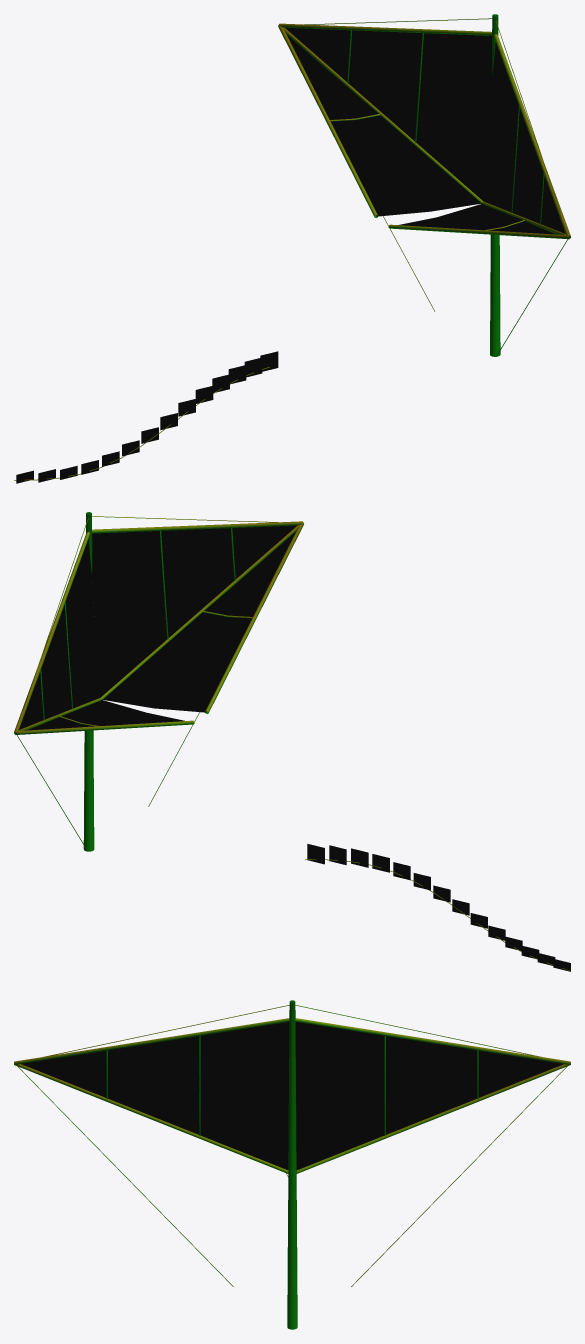
The model's file is kite_rig.glb.
3 renders of one model, top to bottom at view 1: azimuth 30°, elevation 25°; view 2: azimuth 150°, elevation 25°; view 3: azimuth 270°, elevation 25°, orthographic. The views are drawn at different scales.
Parts seen in each view (by area): view 1: kite_rig; view 2: kite_rig; view 3: kite_rig.
Boxes of the visible parts, box(x1,y1,x2,y2) form: kite_rig: box(14, 14, 570, 483); kite_rig: box(14, 512, 570, 971); kite_rig: box(14, 1000, 570, 1329).
Size of what is drawn, in the model's own units: 16.56 by 11.32 by 17.04.
